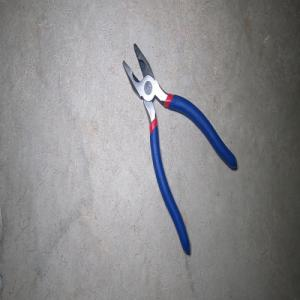Pliers: (122, 42, 237, 255)
